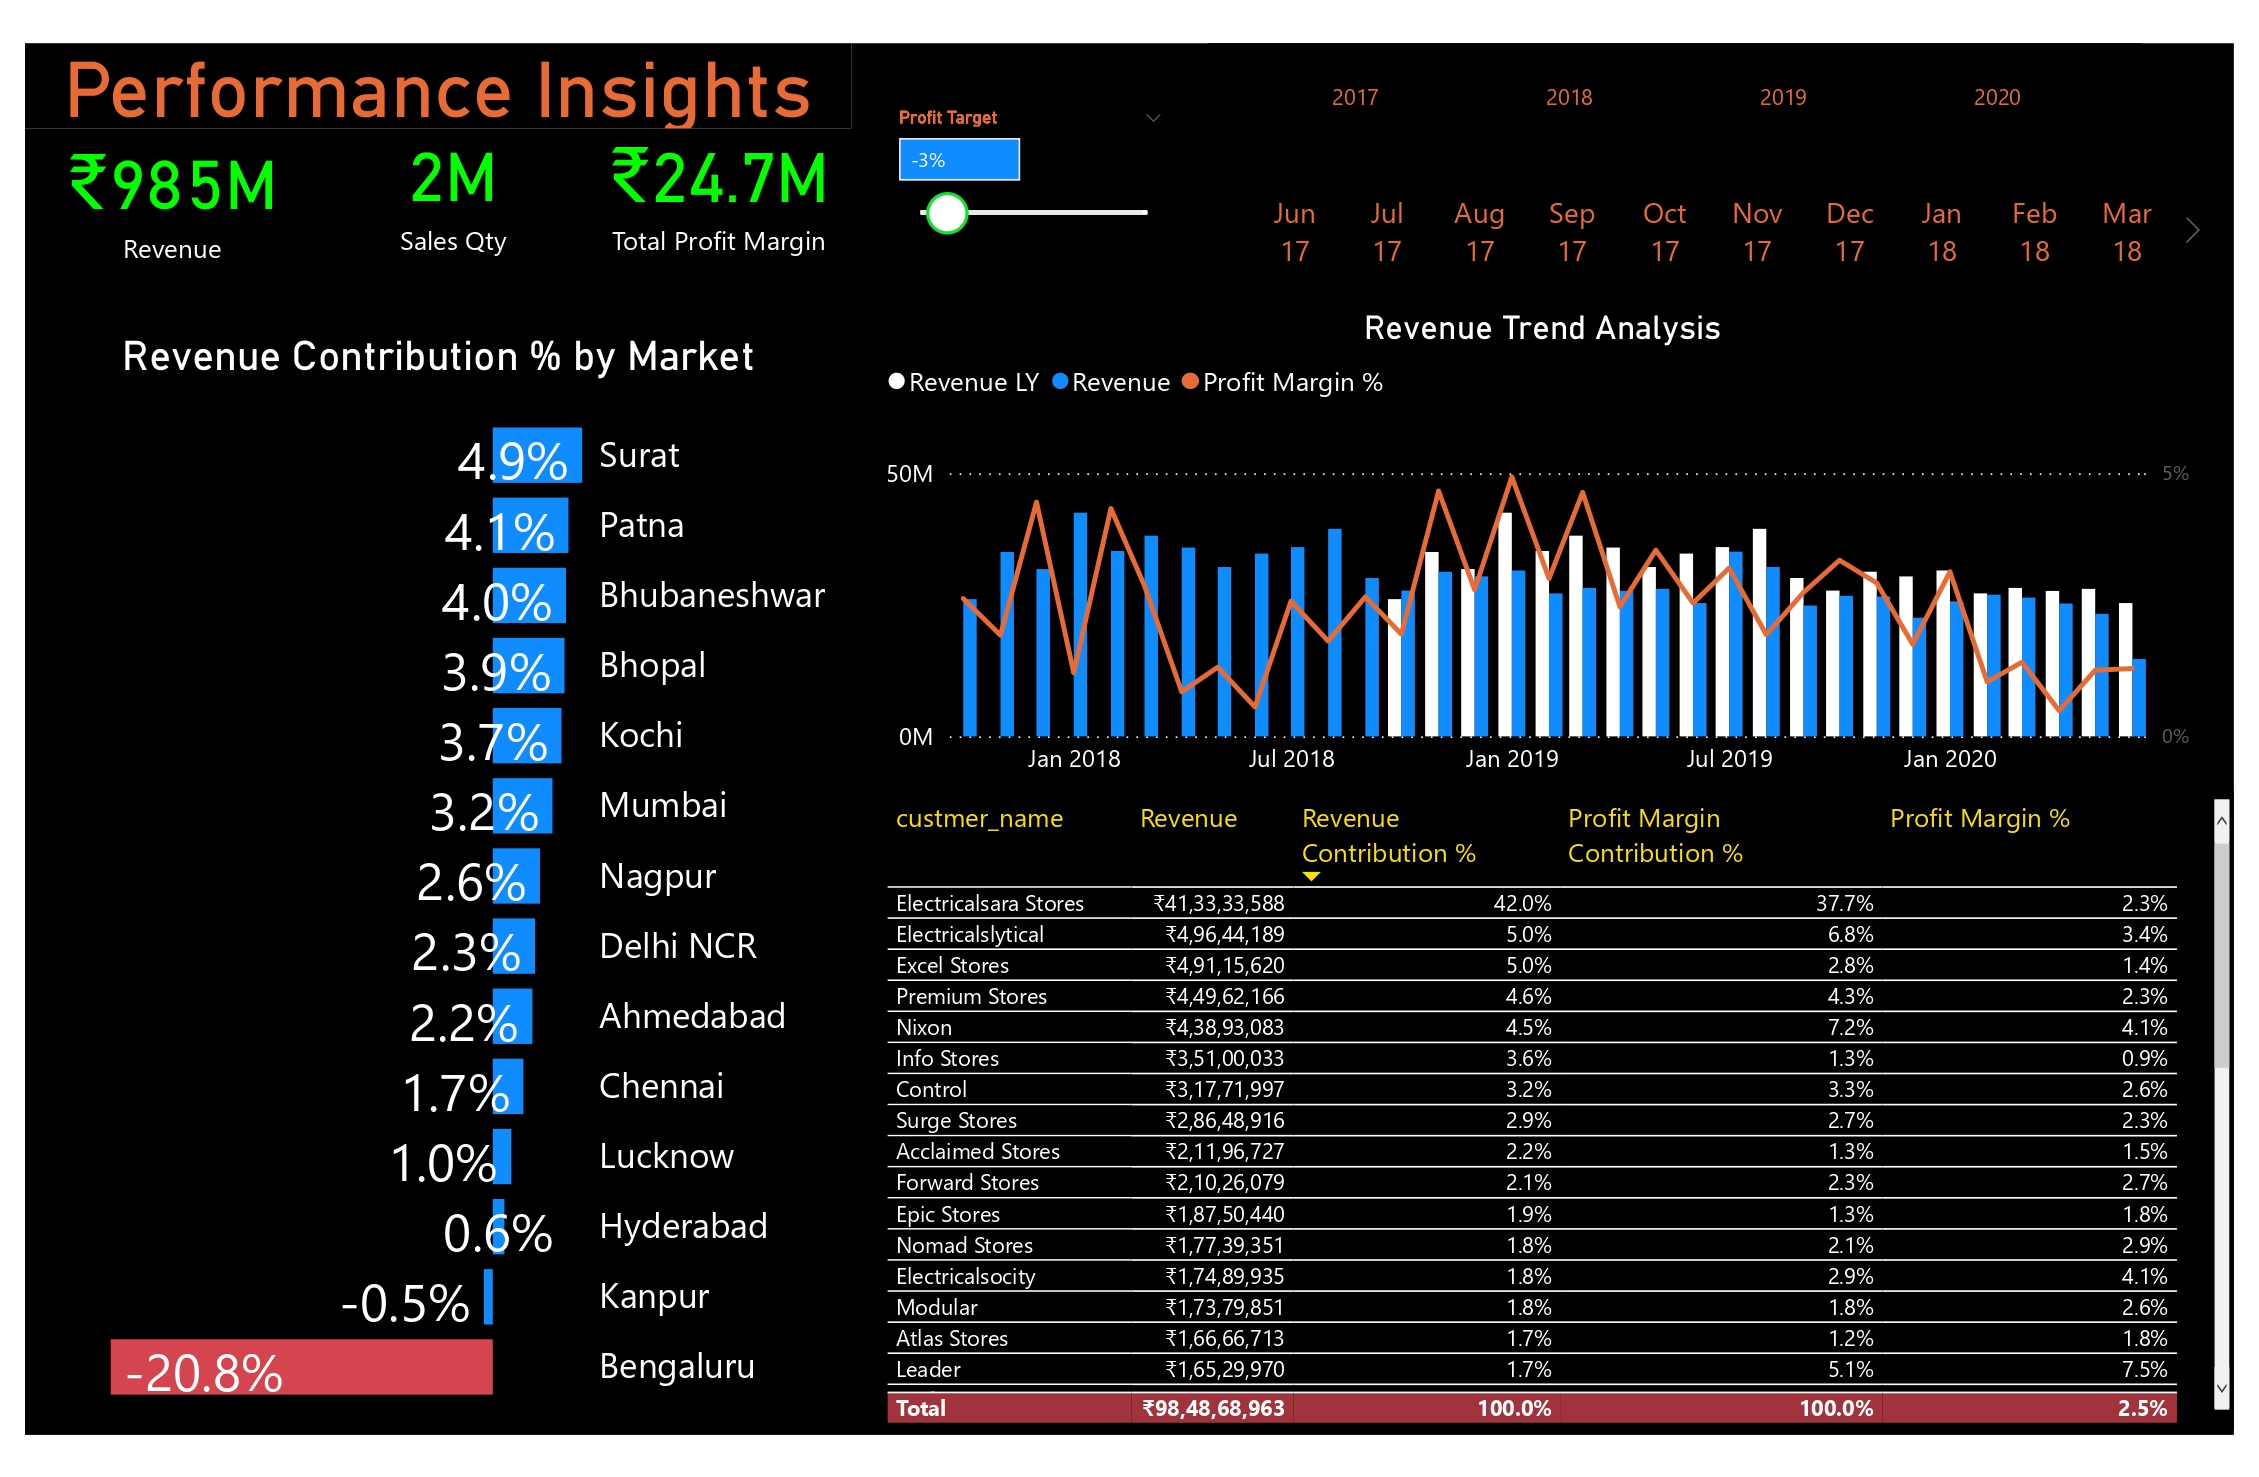

Layout of this report page (visuals, bound fields, positions):
{"tool":"powerbi","page":{"name":"Performance Insights","canvas":[1350,850],"ordinal":2},"visuals":[{"type":"card","fields":{"Values":["BaseMeasures (2).Revenue"]},"box":[0,0,179.7,185.7],"z":0},{"type":"card","fields":{"Values":["BaseMeasures (2).Sales Qty"]},"box":[179.7,0,163.8,175.7],"z":1000},{"type":"slicer","fields":{"Values":["sales date.year"]},"box":[722.9,0,571.2,65.9],"z":2000},{"type":"slicer","fields":{"Values":["sales date.cy_date"]},"box":[722.9,65.9,613.1,95.9],"z":3000},{"type":"tableEx","title":"Top 5 Customers","fields":{"Values":["sales customers.custmer_name","BaseMeasures (2).Revenue","BaseMeasures (2).Revenue Contribution %","BaseMeasures (2).Profit Margin Contribution %","BaseMeasures (2).Profit Margin %"]},"box":[521.2,457.3,830.8,391.4],"z":4000},{"type":"lineClusteredColumnComboChart","title":"Revenue Trend Analysis","fields":{"Category":["sales date.cy_date"],"Y":["BaseMeasures (2).Revenue LY","BaseMeasures (2).Revenue"],"Y2":["BaseMeasures (2).Profit Margin %"]},"box":[521.2,161.8,812.8,295.6],"z":5000},{"type":"card","fields":{"Values":["BaseMeasures (2).Total Profit Margin"]},"box":[343.7,0,161,176.5],"z":6000},{"type":"barChart","title":"Revenue Contribution % by Market","fields":{"Y":["BaseMeasures (2).Profit Margin %"],"Category":["sales markets.zone","sales markets.markets_name","sales customers.custmer_name","sales products.product_code"]},"box":[0,175.7,505.3,673],"z":7000},{"type":"slicer","fields":{"Values":["Profit Target.Profit Target"]},"box":[521.2,33.9,185.7,107.8],"z":8000},{"type":"textbox","title":"Performance Insights","box":[0,0,505.3,51.9],"z":8001}]}

Visuals, with their boxes on the page's 1350x850 design canvas (x1, y1, x2, y2). These are canvas units, not pixel positions in the 2259x1477 screenshot, which may show the page scaled, cropped or inside an application window:
card - BaseMeasures (2).Revenue: 0, 0, 180, 186
card - BaseMeasures (2).Sales Qty: 180, 0, 344, 176
slicer - sales date.year: 723, 0, 1294, 66
slicer - sales date.cy_date: 723, 66, 1336, 162
"Top 5 Customers" tableEx: 521, 457, 1352, 849
"Revenue Trend Analysis" lineClusteredColumnComboChart: 521, 162, 1334, 457
card - BaseMeasures (2).Total Profit Margin: 344, 0, 505, 176
"Revenue Contribution % by Market" barChart: 0, 176, 505, 849
slicer - Profit Target.Profit Target: 521, 34, 707, 142
"Performance Insights" textbox: 0, 0, 505, 52
